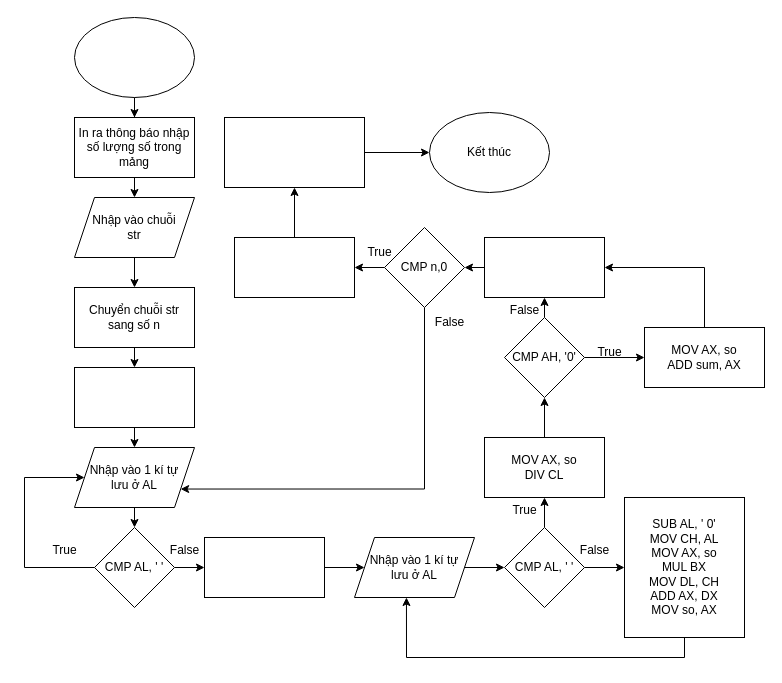
Some shapes in this 782 by 683 pixel diagram are drawn without their labels. Here are the shapes that lost their labels. From the top down, the box of each, then its label:
(74, 16, 194, 98): Bắt đầu
(224, 116, 364, 188): Lấy lần lượt các chữ số trong stack và in ra màn hình. Ta được sum
(234, 236, 354, 298): Đẩy lần lượt các chữ số từ cuối đến đầu của sum vào stack
(484, 236, 604, 298): DEC n
(74, 366, 194, 428): In ra thông báo nhập vào dãy n số MOV CL, 7
(204, 536, 324, 598): SUB AL, '0' MOV AH, 0 MOV so, AX
